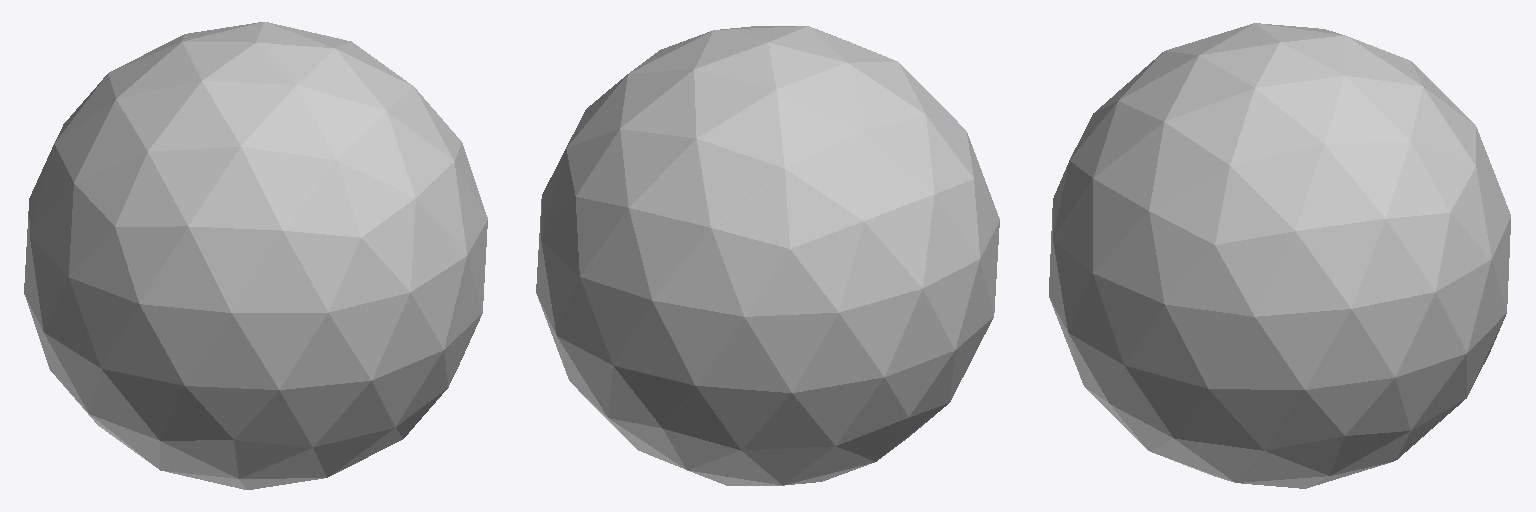
Rendered from geodome.obj.
The picture shows the model from 3 angles: view 1: azimuth 30°, elevation 25°; view 2: azimuth 150°, elevation 25°; view 3: azimuth 270°, elevation 25°; orthographic projection.
Visible parts, largest first — view 1: F3:GeoDome1; view 2: F3:GeoDome1; view 3: F3:GeoDome1.
Boxes of the visible parts, x1,y1,x2,y2 form: F3:GeoDome1: [24, 22, 487, 489]; F3:GeoDome1: [536, 26, 999, 485]; F3:GeoDome1: [1049, 23, 1510, 488].
Bounding box in the file's own units: 1.96 × 2 × 1.96.